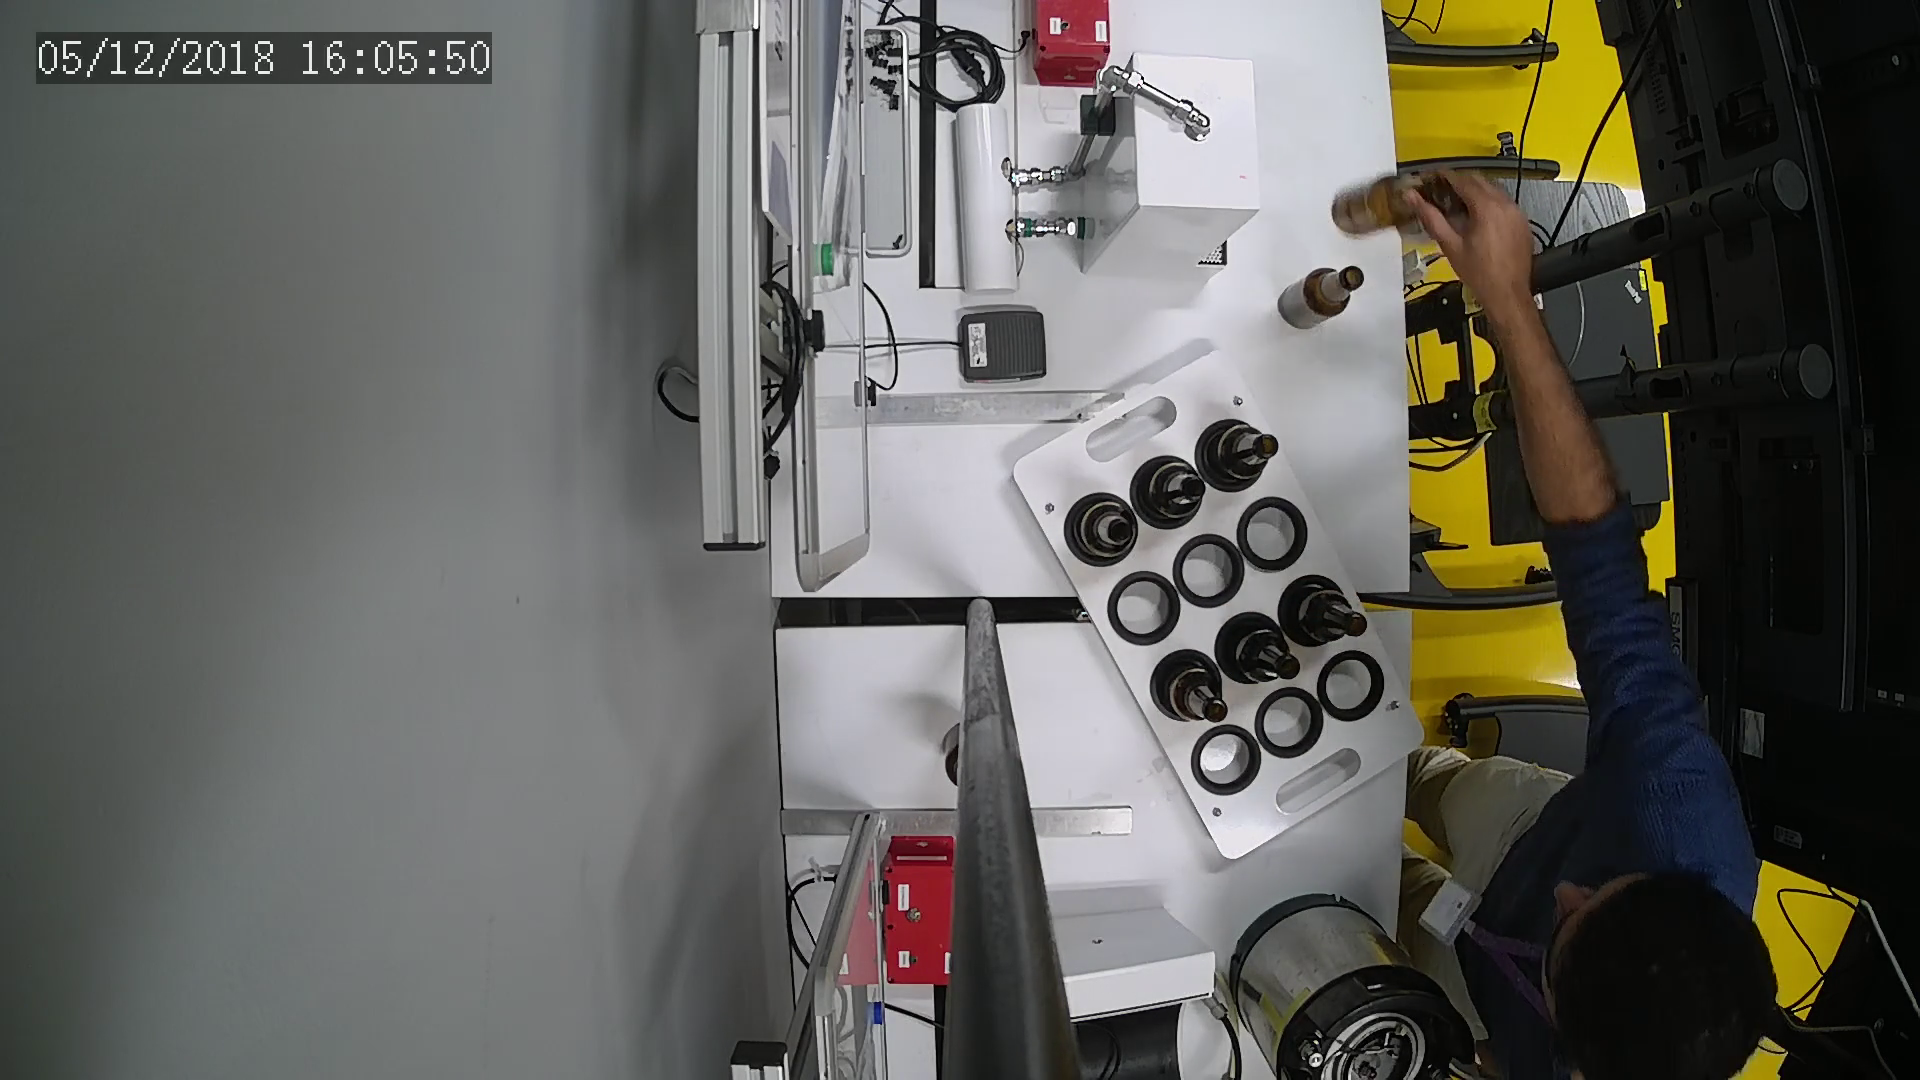filled_bottle: (1283, 572, 1370, 655), (1215, 616, 1305, 690), (1151, 649, 1229, 732), (1195, 418, 1280, 491), (1064, 493, 1141, 566), (1133, 454, 1207, 527)
trolley: (1011, 345, 1429, 865)
unfilled_bottle: (1278, 265, 1366, 328)
